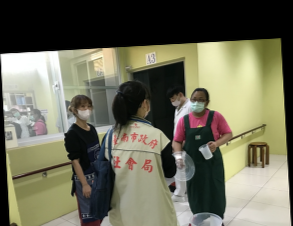mask_weared_incorrect: (169, 95, 182, 107)
with_mask: (74, 102, 94, 120), (190, 94, 207, 113), (140, 94, 151, 118), (29, 112, 38, 123), (4, 114, 14, 123), (12, 110, 21, 118)
